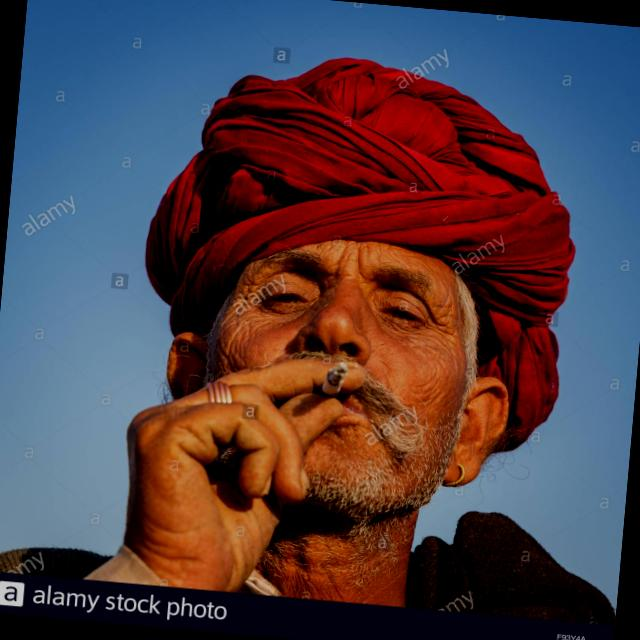cigarette: (294, 348, 360, 414)
